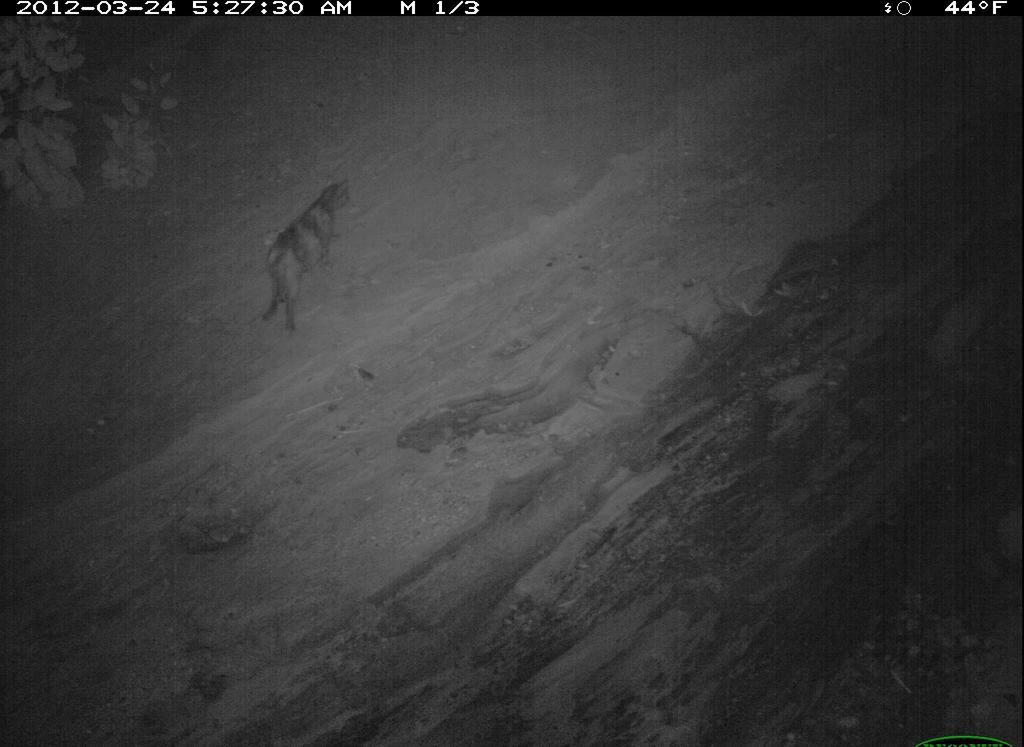cat: (515, 351, 717, 673)
